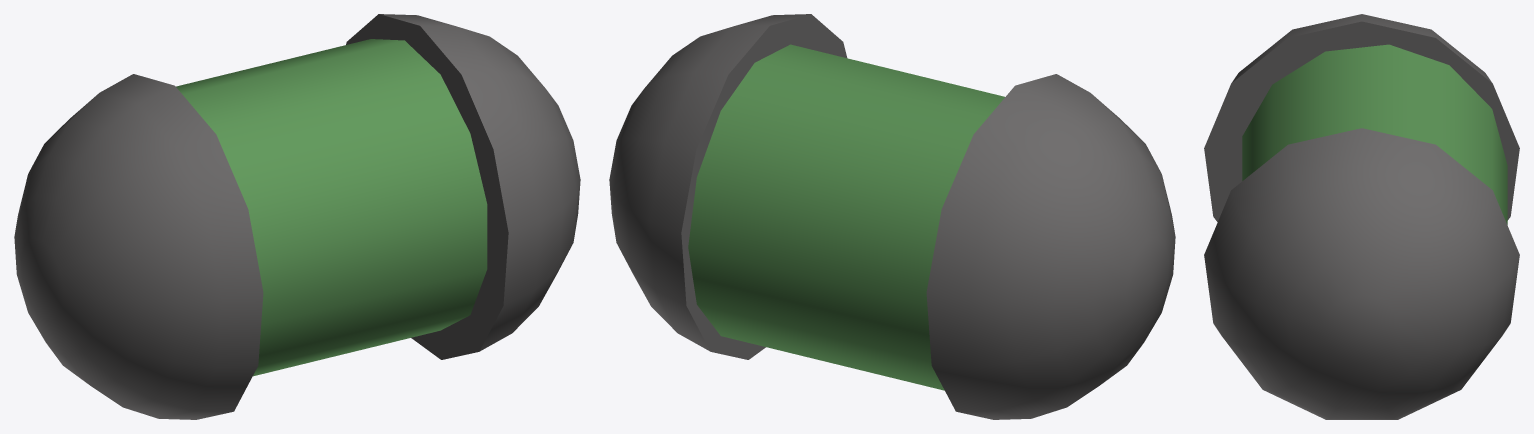
The model's file is PowerToken.fbx.
3 views of the same model, side by side, from view 1: azimuth 30°, elevation 25°; view 2: azimuth 150°, elevation 25°; view 3: azimuth 270°, elevation 25° (orthographic). The views are drawn at different scales.
Visible parts, largest first — view 1: pSphere1, pCylinder1; view 2: pSphere1, pCylinder1; view 3: pSphere1, pCylinder1.
Part boxes in pixels (<box>): pSphere1: <box>14,14,580,419</box>; pCylinder1: <box>176,39,487,376</box>; pSphere1: <box>609,14,1175,419</box>; pCylinder1: <box>688,44,1004,390</box>; pSphere1: <box>1204,14,1519,419</box>; pCylinder1: <box>1242,44,1507,224</box>.
Bounding box in the file's own units: 8.42 × 4.94 × 4.98.
